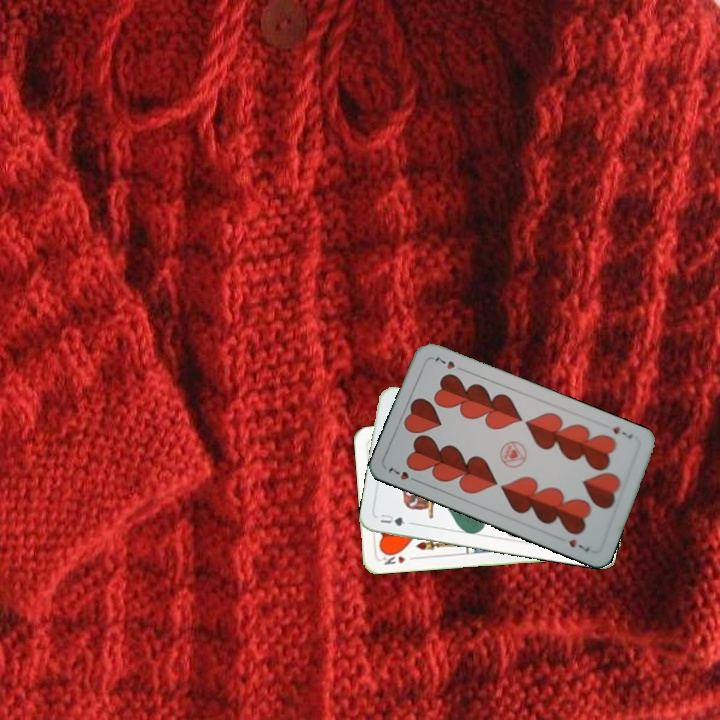GU: (376, 510, 408, 529)
H7: (384, 464, 422, 485), (609, 423, 636, 441)
HK: (378, 548, 418, 567)
